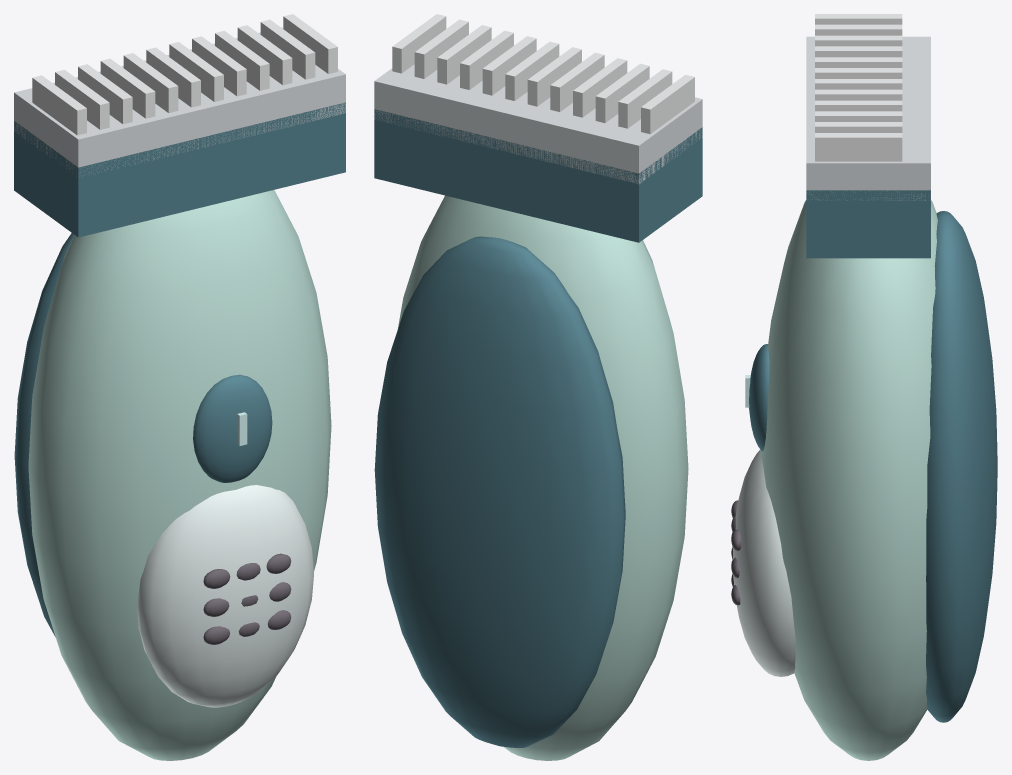
The model's file is vacuum.glb.
3 renders of one model, left to right at view 1: azimuth 30°, elevation 25°; view 2: azimuth 150°, elevation 25°; view 3: azimuth 270°, elevation 25°, orthographic. The views are drawn at different scales.
Parts seen in each view (by area): view 1: Grip, Collector_window, Blade_mount, Blade_plate, Power_button, Rubber_back, Tooth_0, Tooth_9, Tooth_3, Tooth_10, Tooth_4, Tooth_2 (+6 smaller); view 2: Rubber_back, Grip, Blade_mount, Blade_plate, Tooth_0, Tooth_10, Tooth_5, Tooth_2, Tooth_7, Tooth_3, Tooth_1, Tooth_6 (+4 smaller); view 3: Grip, Rubber_back, Collector_window, Blade_mount, Blade_plate, Tooth_11, Power_button, Tooth_1, Tooth_3, Tooth_7, Tooth_2, Tooth_8 (+6 smaller).
Boxes of the visible parts, x1,y1,x2,y2 form: Grip: [28, 190, 331, 760]; Collector_window: [137, 485, 313, 707]; Blade_mount: [14, 102, 345, 237]; Blade_plate: [14, 27, 345, 177]; Power_button: [193, 374, 272, 482]; Rubber_back: [14, 233, 73, 637]; Tooth_0: [32, 75, 86, 135]; Tooth_9: [237, 25, 292, 85]; Tooth_3: [100, 58, 155, 118]; Tooth_10: [260, 19, 315, 79]; Tooth_4: [123, 53, 178, 112]; Tooth_2: [78, 64, 132, 124]; Rubber_back: [374, 236, 625, 747]; Grip: [397, 195, 688, 760]; Blade_mount: [374, 109, 702, 242]; Blade_plate: [374, 64, 702, 184]; Tooth_0: [641, 74, 694, 134]; Tooth_10: [414, 19, 468, 78]; Tooth_5: [527, 47, 581, 106]; Tooth_2: [595, 63, 649, 122]; Tooth_7: [482, 36, 536, 95]; Tooth_3: [573, 58, 627, 117]; Tooth_1: [618, 69, 672, 128]; Tooth_6: [505, 41, 559, 100]; Grip: [760, 200, 937, 760]; Rubber_back: [926, 211, 997, 722]; Collector_window: [732, 450, 795, 676]; Blade_mount: [806, 190, 930, 258]; Blade_plate: [806, 36, 930, 200]; Tooth_11: [815, 133, 902, 161]; Power_button: [749, 344, 769, 451]; Tooth_1: [815, 24, 902, 35]; Tooth_3: [815, 46, 902, 57]; Tooth_7: [815, 89, 902, 100]; Tooth_2: [815, 35, 902, 46]; Tooth_8: [815, 100, 902, 111].
Bounding box in the file's own units: 0.38 × 0.898 × 0.32.
